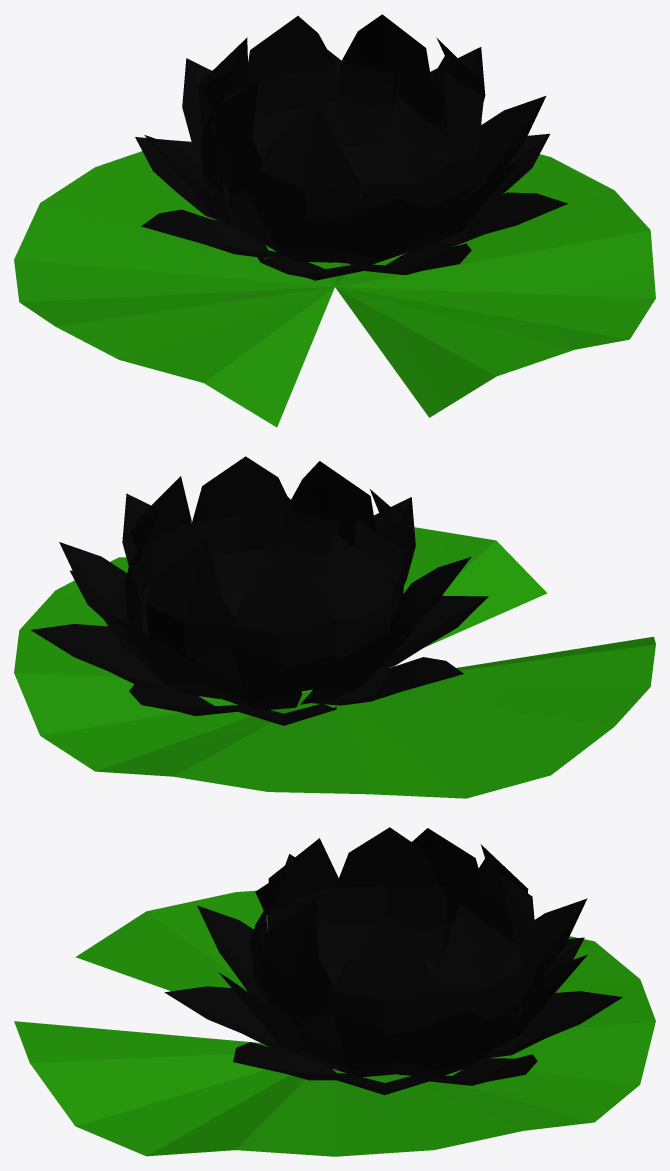
Rendered from Waterlily_KW.fbx.
3 renders of one model, top to bottom at view 1: azimuth 30°, elevation 25°; view 2: azimuth 150°, elevation 25°; view 3: azimuth 270°, elevation 25°, orthographic.
Visible parts, largest first — view 1: Waterlily_KW; view 2: Waterlily_KW; view 3: Waterlily_KW.
Boxes of the visible parts, x1,y1,x2,y2 form: Waterlily_KW: (14,14,655,427); Waterlily_KW: (14,456,655,798); Waterlily_KW: (14,827,655,1156).
Size of the model in its own units: 43.66 by 15.25 by 43.66.
